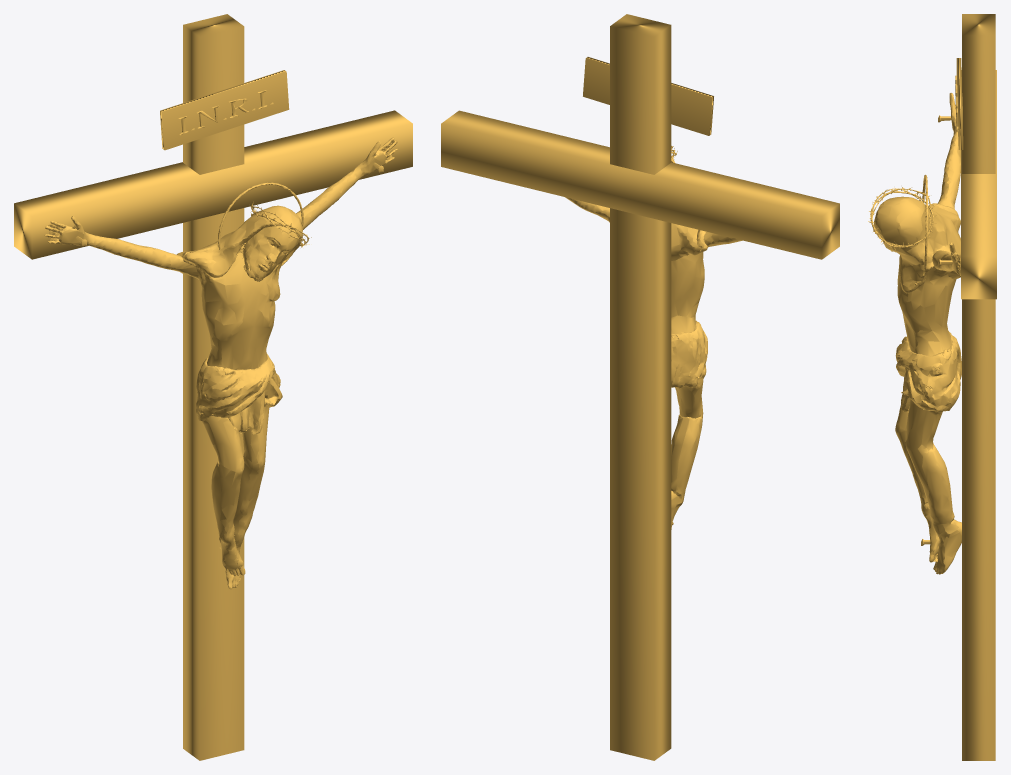
The model's file is scene-jesus-crucifix.glb.
3 views of the same model, side by side, from view 1: azimuth 30°, elevation 25°; view 2: azimuth 150°, elevation 25°; view 3: azimuth 270°, elevation 25° (orthographic).
Parts seen in each view (by area): view 1: Cross1; view 2: Cross1; view 3: Cross1.
Boxes of the visible parts, box(x1,y1,x2,y2) form: Cross1: box(14, 14, 412, 760); Cross1: box(441, 14, 839, 760); Cross1: box(868, 14, 996, 760).
Size of the model in its own units: 1.91 by 3.47 by 0.5591.
